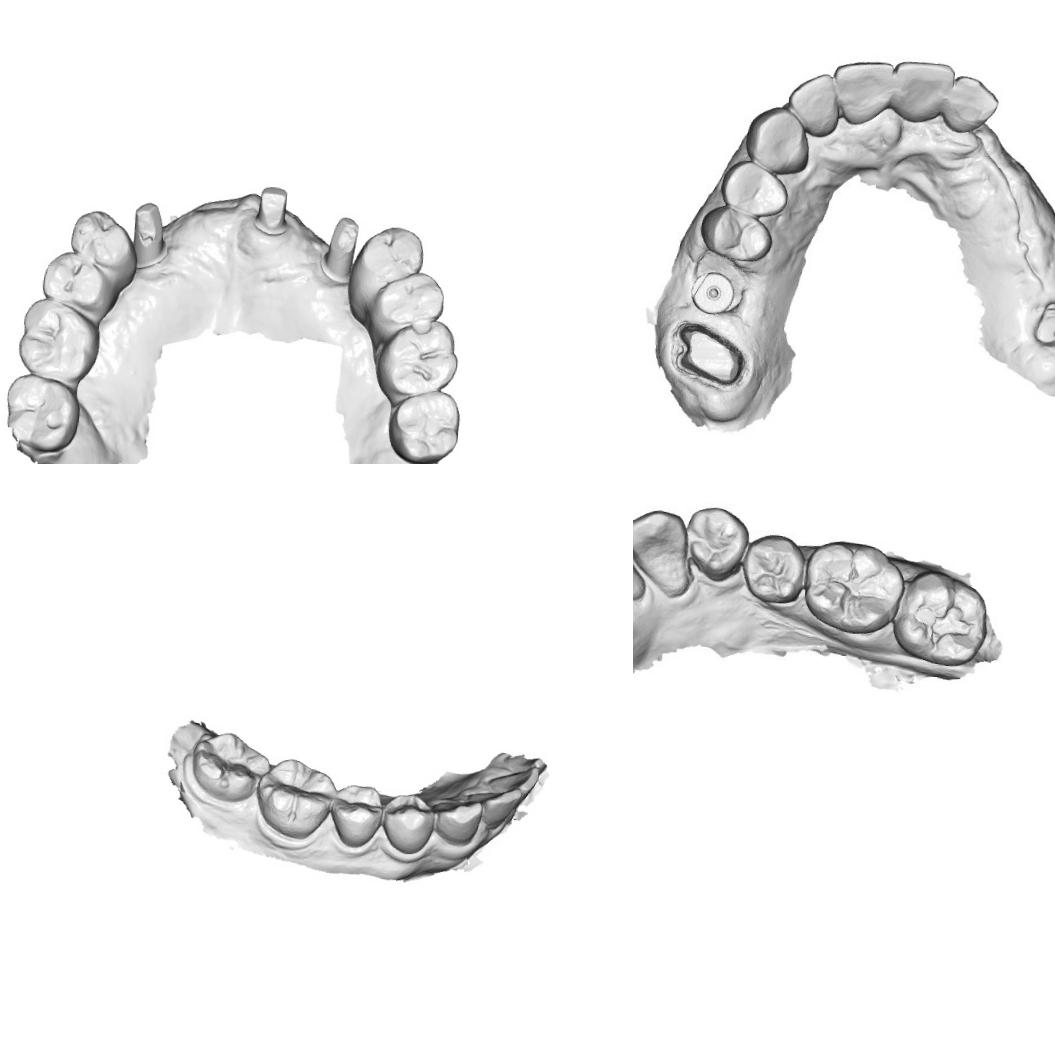abutment: (319, 208, 361, 285), (124, 197, 170, 267), (250, 180, 292, 238)
canine: (633, 505, 696, 598), (740, 100, 815, 176), (426, 790, 484, 848)
crown: (669, 322, 748, 388)
implant: (685, 268, 740, 318)
incisor: (887, 55, 958, 126), (829, 57, 898, 124), (784, 68, 848, 135), (946, 72, 1002, 136), (478, 782, 524, 834), (486, 761, 541, 798), (633, 521, 652, 600)
molar: (802, 536, 907, 638), (892, 567, 990, 667), (13, 294, 106, 386), (373, 314, 461, 406), (0, 368, 83, 461), (252, 753, 337, 843), (186, 727, 274, 807), (383, 386, 462, 464)
premolar: (66, 204, 138, 280), (38, 248, 118, 316), (369, 264, 449, 332), (681, 504, 750, 582), (738, 530, 807, 606), (696, 204, 776, 265), (356, 222, 427, 288), (718, 157, 792, 219), (325, 781, 386, 851), (377, 789, 438, 857)
